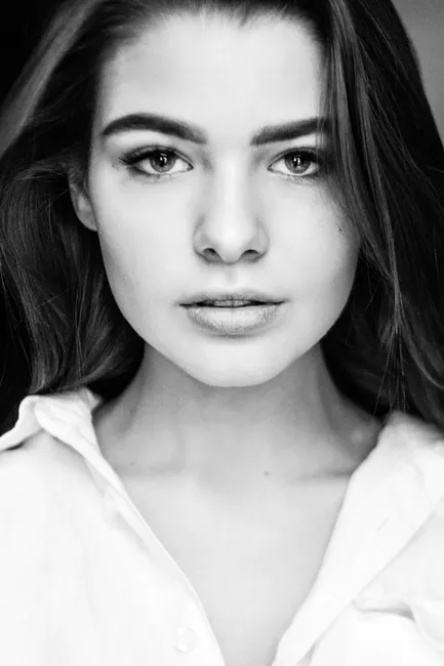face: (90, 18, 356, 387)
